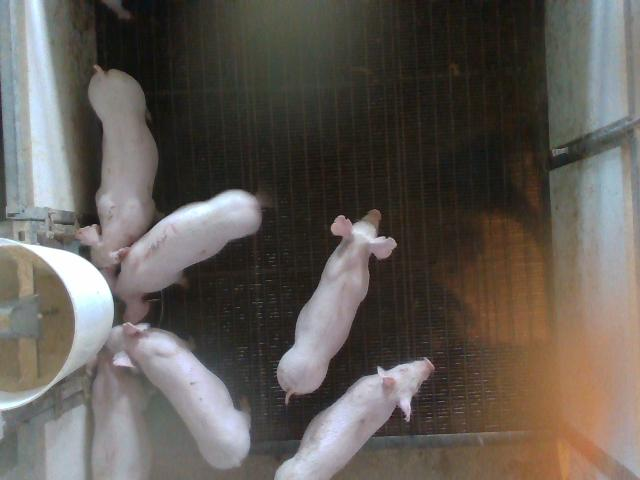pig-3: (101, 190, 261, 323)
